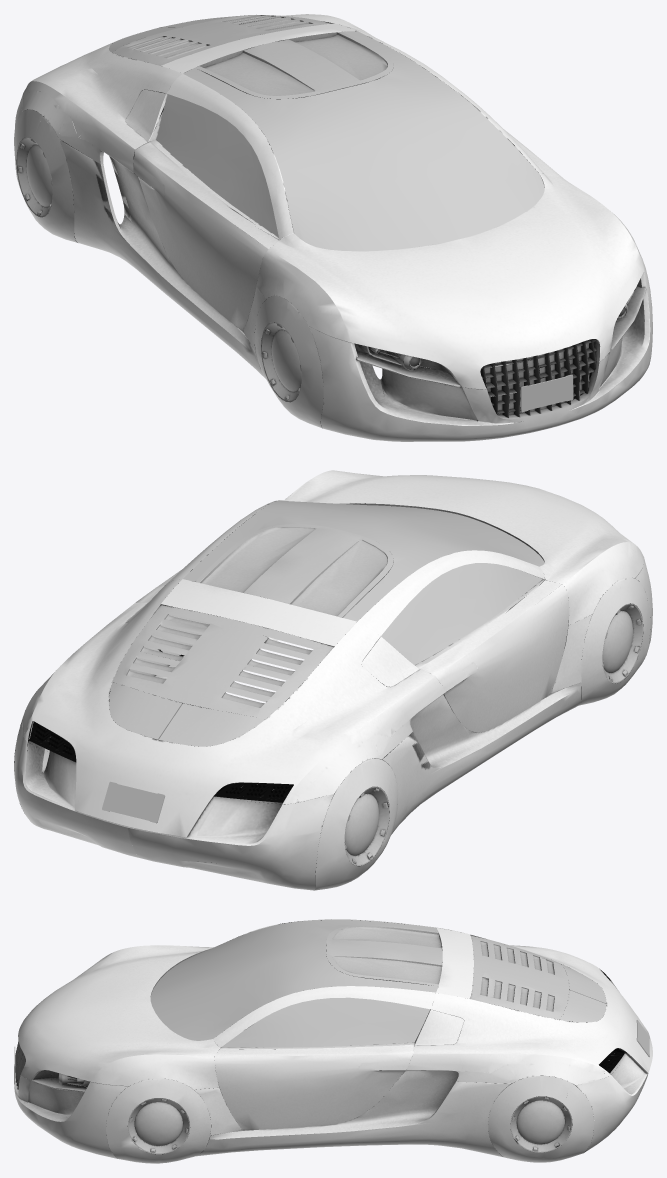
The model's file is TRAFFIC_011.fbx.
3 renders of one model, top to bottom at view 1: azimuth 30°, elevation 25°; view 2: azimuth 150°, elevation 25°; view 3: azimuth 270°, elevation 25°, orthographic. The views are drawn at different scales.
Visible parts, largest first — view 1: TRAFFIC_011 Body, TRAFFIC_011 Glass, TRAFFIC_011 Signs; view 2: TRAFFIC_011 Body, TRAFFIC_011 Glass, TRAFFIC_011 Signs; view 3: TRAFFIC_011 Body, TRAFFIC_011 Glass, TRAFFIC_011 Signs.
Boxes of the visible parts, box(x1,y1,x2,y2) form: TRAFFIC_011 Body: box(14, 14, 652, 441); TRAFFIC_011 Glass: box(156, 31, 544, 251); TRAFFIC_011 Signs: box(520, 374, 573, 412); TRAFFIC_011 Body: box(14, 470, 652, 890); TRAFFIC_011 Glass: box(183, 500, 544, 665); TRAFFIC_011 Signs: box(102, 781, 165, 823); TRAFFIC_011 Body: box(14, 919, 652, 1163); TRAFFIC_011 Glass: box(150, 920, 438, 1047); TRAFFIC_011 Signs: box(14, 1020, 649, 1084).
Bounding box in the file's own units: 233 × 138 × 497.
